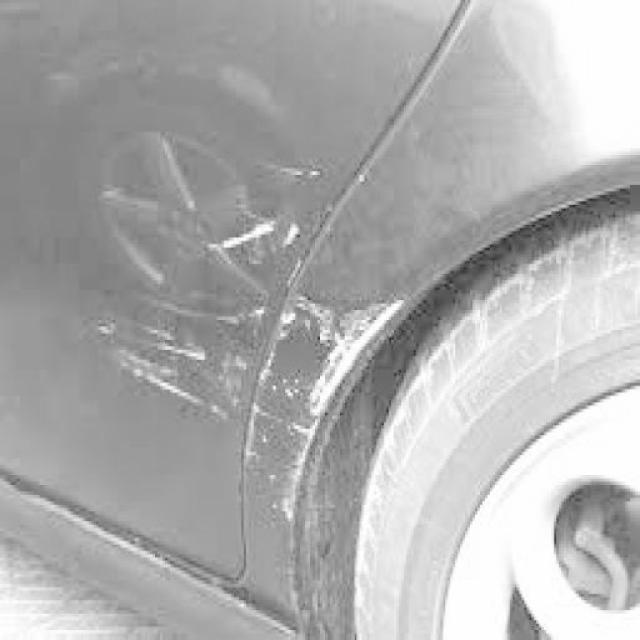car damage: (91, 146, 419, 529)
